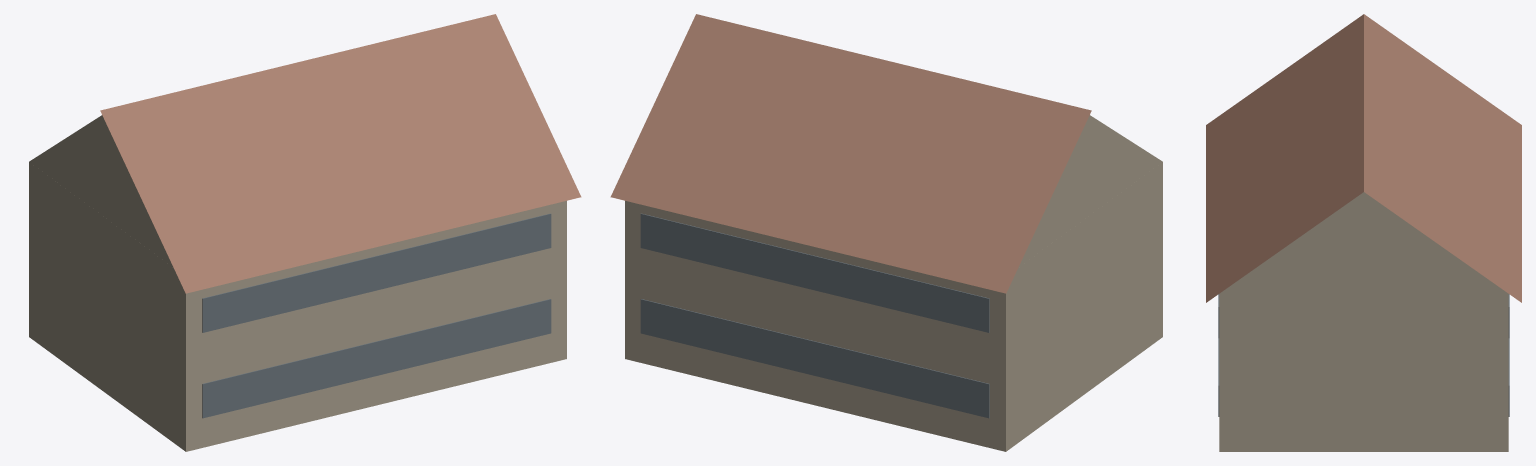
The model's file is village-inn.loc-v1.lod2.glb.
The picture shows the model from 3 angles, left to right: view 1: azimuth 30°, elevation 25°; view 2: azimuth 150°, elevation 25°; view 3: azimuth 270°, elevation 25°; orthographic projection. The views are drawn at different scales.
Visible parts, largest first — view 1: village-inn; view 2: village-inn; view 3: village-inn.
Part boxes in pixels (left/top/right/bottom): village-inn: left=29, top=14, right=581, bottom=451; village-inn: left=610, top=14, right=1162, bottom=451; village-inn: left=1206, top=14, right=1521, bottom=451.
Size of the model in its own units: 14.54 by 10.03 by 10.9.
